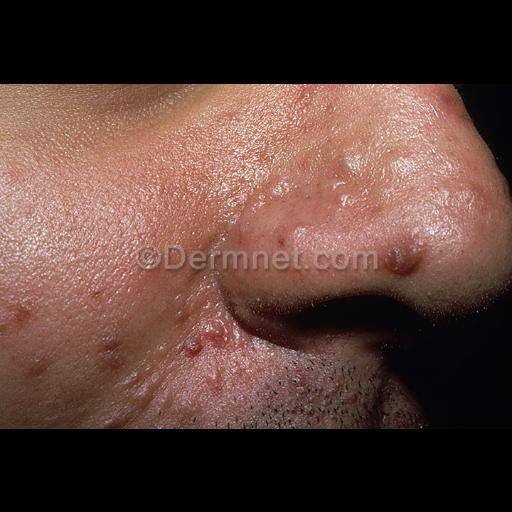Skin_Lesion: (180, 306, 230, 356), (380, 238, 424, 278), (282, 218, 320, 254), (221, 207, 255, 245), (174, 394, 206, 424), (96, 344, 130, 370), (123, 372, 151, 402), (328, 179, 356, 207), (195, 366, 227, 390), (433, 86, 459, 114), (85, 278, 115, 302), (292, 378, 316, 404), (338, 386, 360, 410), (297, 182, 317, 204), (9, 306, 41, 318), (98, 414, 116, 428), (29, 350, 45, 364)
